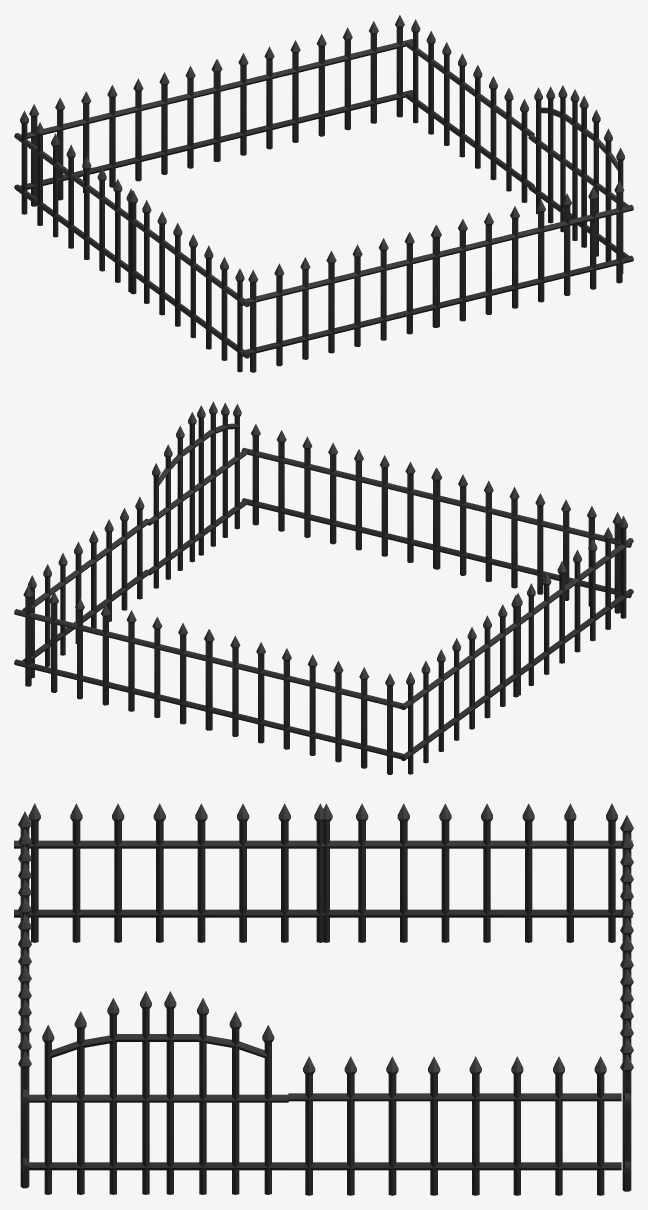
File: Fence_Iron.glb
The picture shows the model from 3 angles, top to bottom: view 1: azimuth 30°, elevation 25°; view 2: azimuth 150°, elevation 25°; view 3: azimuth 270°, elevation 25°; orthographic projection. The views are drawn at different scales.
Parts seen in each view (by area): view 1: fence_seperate.005, fence_seperate.002, fence_seperate.004, fence_seperate.003, fence_seperate.001, fence_seperate.007, fence_seperate.006, fence_gate_right, fence_gate_left; view 2: fence_seperate.003, fence_seperate.004, fence_seperate.002, fence_seperate.005, fence_seperate.006, fence_seperate.007, fence_seperate.001, fence_gate_right, fence_gate_left; view 3: fence_seperate.001, fence_seperate.006, fence_seperate.007, fence_gate_left, fence_gate_right, fence_seperate.004, fence_seperate.002, fence_seperate.005, fence_seperate.003.
Part boxes in pixels (x1,y1,x2,y2): fence_seperate.005: (238,225,450,372); fence_seperate.002: (204,15,412,161); fence_seperate.004: (423,180,633,327); fence_seperate.003: (20,59,231,206); fence_seperate.001: (405,19,534,202); fence_seperate.007: (14,110,139,294); fence_seperate.006: (122,188,250,372); fence_gate_right: (528,85,580,240); fence_gate_left: (577,95,628,273); fence_seperate.003: (195,629,403,774); fence_seperate.004: (241,424,449,569); fence_seperate.002: (14,585,221,730); fence_seperate.005: (424,468,631,613); fence_seperate.006: (507,516,633,697); fence_seperate.007: (400,593,528,774); fence_seperate.001: (22,496,149,678); fence_gate_right: (148,412,199,588); fence_gate_left: (196,401,246,555); fence_seperate.001: (288,1056,621,1195); fence_seperate.006: (14,803,347,942); fence_seperate.007: (300,803,632,942); fence_gate_left: (28,991,158,1194); fence_gate_right: (158,991,288,1194); fence_seperate.004: (18,931,31,1188); fence_seperate.002: (620,935,633,1191); fence_seperate.005: (18,811,31,943); fence_seperate.003: (620,815,633,947).
Size of the model in its own units: 8.1 by 2.94 by 8.15.
Materials: 2 (2 with a texture image).
